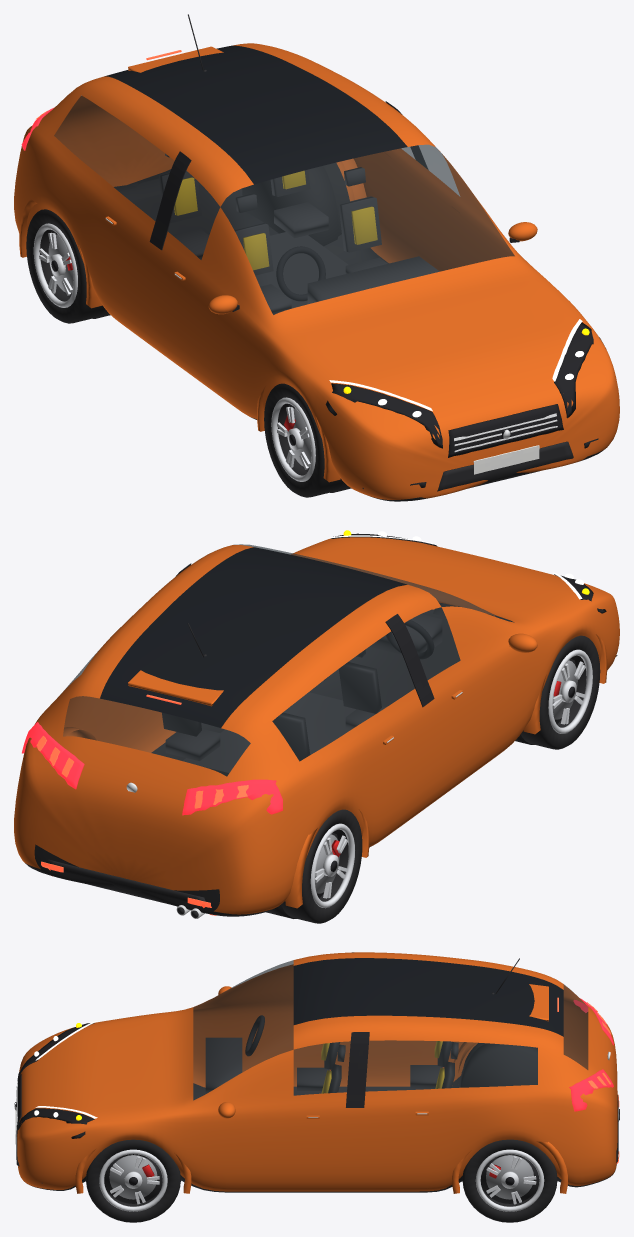
Rendered from car_peugeot_308.glb.
3 views of the same model, one above another, from view 1: azimuth 30°, elevation 25°; view 2: azimuth 150°, elevation 25°; view 3: azimuth 270°, elevation 25° (orthographic). The views are drawn at different scales.
Parts seen in each view (by area): view 1: Peugeot_308_Body, Tire_-0.79_1.34, Tire_-0.79_-1.32, Wheelhouse_1.34_1.0, Cube.015, Front_Upper_Grille, Cube.016, Front_Lower_Intake, Headlight_Housing_-1.0, Headlight_Housing_1.0, B_Pillar_-1.0, Cube.029 (+12 smaller); view 2: Peugeot_308_Body, Cube.015, Tire_-0.79_1.34, Tire_-0.79_-1.32, Taillight_Housing_-1.0, Cube.018, Rear_Diffuser_Valence, B_Pillar_-1.0, Cube.013, Taillight_Housing_1.0, Cube.029, Torus.001 (+6 smaller); view 3: Peugeot_308_Body, Tire_0.79_1.34, Tire_0.79_-1.32, Wheelhouse_1.34_-1.0, Cube.016, B_Pillar_1.0, Cylinder.020, Cylinder.012, Torus.002, Torus.004, Taillight_Housing_1.0, Headlight_Housing_1.0 (+10 smaller).
Part boxes in pixels (x1,y1,x2,y2): Peugeot_308_Body: [14, 43, 619, 501]; Tire_-0.79_1.34: [26, 209, 105, 323]; Tire_-0.79_-1.32: [264, 383, 343, 497]; Wheelhouse_1.34_1.0: [242, 166, 338, 246]; Cube.015: [255, 232, 347, 308]; Front_Upper_Grille: [448, 404, 563, 457]; Cube.016: [307, 256, 439, 303]; Front_Lower_Intake: [437, 441, 573, 491]; Headlight_Housing_-1.0: [325, 383, 442, 448]; Headlight_Housing_1.0: [554, 322, 604, 418]; B_Pillar_-1.0: [149, 151, 191, 250]; Cube.029: [274, 202, 328, 237]; Peugeot_308_Body: [14, 537, 619, 916]; Cube.015: [183, 692, 355, 776]; Tire_-0.79_1.34: [281, 809, 362, 923]; Tire_-0.79_-1.32: [520, 635, 600, 749]; Taillight_Housing_-1.0: [182, 779, 282, 815]; Cube.018: [339, 662, 381, 713]; Rear_Diffuser_Valence: [46, 859, 205, 903]; B_Pillar_-1.0: [385, 614, 434, 707]; Cube.013: [128, 670, 223, 706]; Taillight_Housing_1.0: [22, 722, 84, 789]; Cube.029: [165, 729, 220, 760]; Torus.001: [548, 649, 592, 733]; Peugeot_308_Body: [17, 952, 617, 1192]; Tire_0.79_1.34: [462, 1139, 557, 1222]; Tire_0.79_-1.32: [86, 1139, 180, 1222]; Wheelhouse_1.34_-1.0: [460, 1043, 537, 1087]; Cube.016: [205, 1037, 242, 1093]; B_Pillar_1.0: [346, 1032, 369, 1107]; Cylinder.020: [486, 1155, 533, 1199]; Cylinder.012: [109, 1155, 157, 1199]; Torus.002: [99, 1149, 167, 1211]; Torus.004: [475, 1149, 544, 1211]; Taillight_Housing_1.0: [569, 1069, 613, 1111]; Headlight_Housing_1.0: [17, 1108, 94, 1138].
Bounding box in the file's own units: 2.11 × 1.66 × 4.28.
